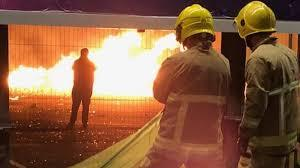safe person: (154, 4, 235, 158), (234, 1, 293, 156)
unsafe person: (70, 45, 92, 123)
